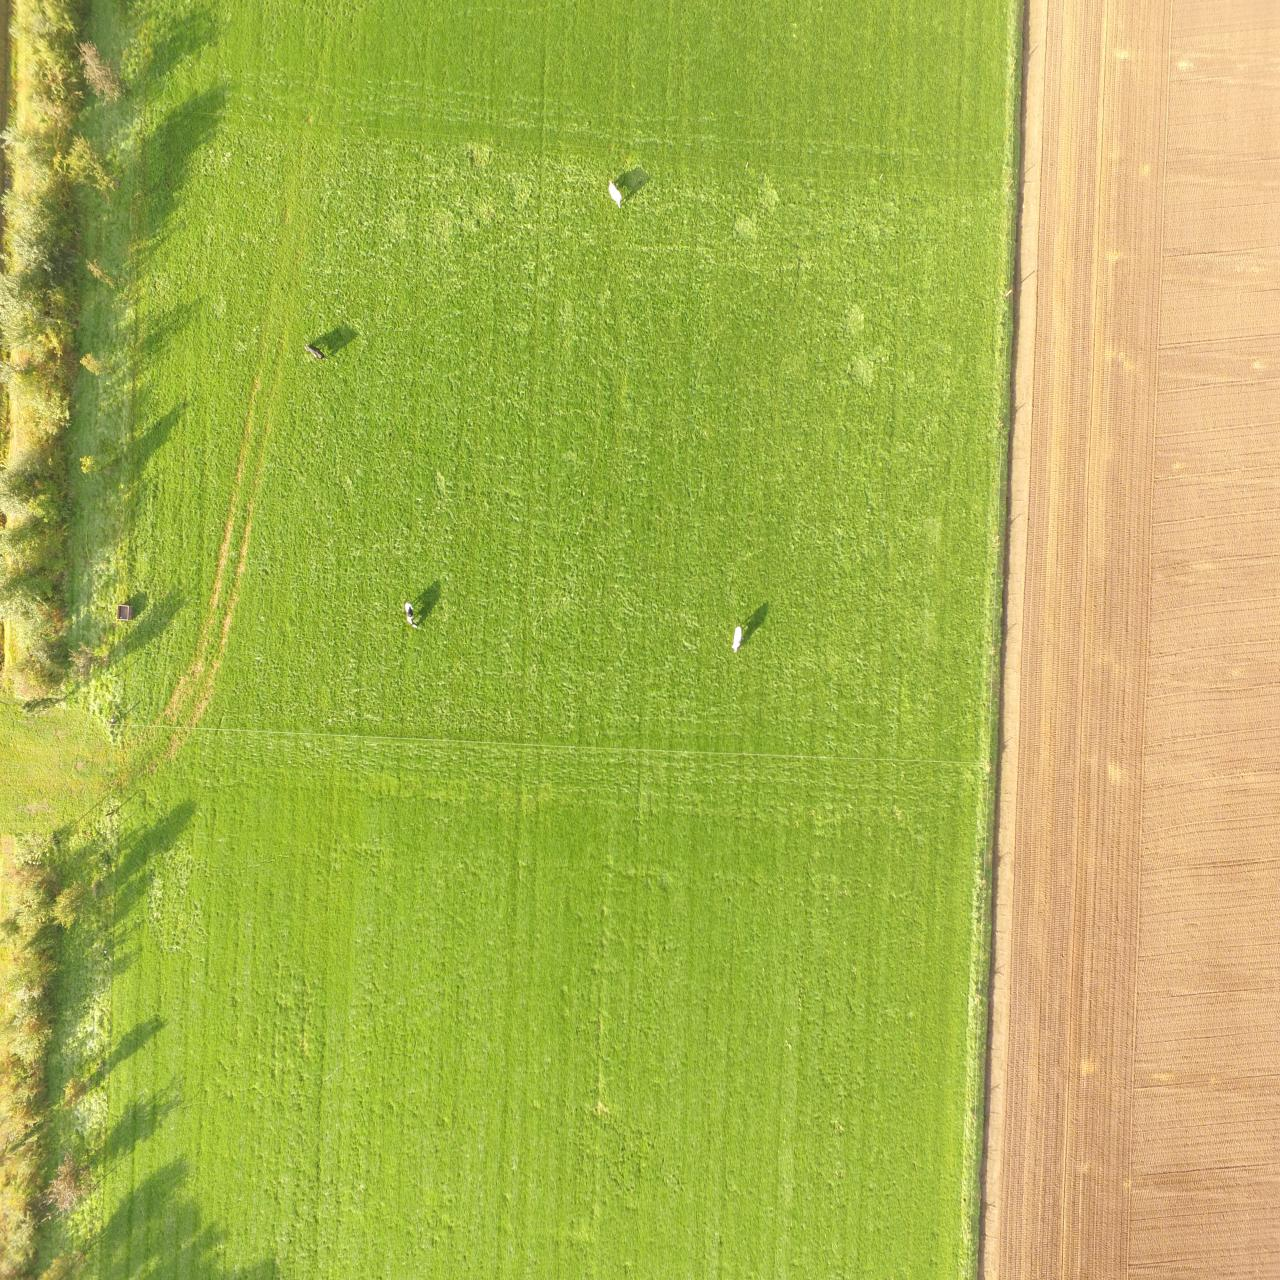cow: (302, 340, 329, 362), (608, 178, 625, 210), (403, 599, 420, 629), (730, 625, 742, 654)
